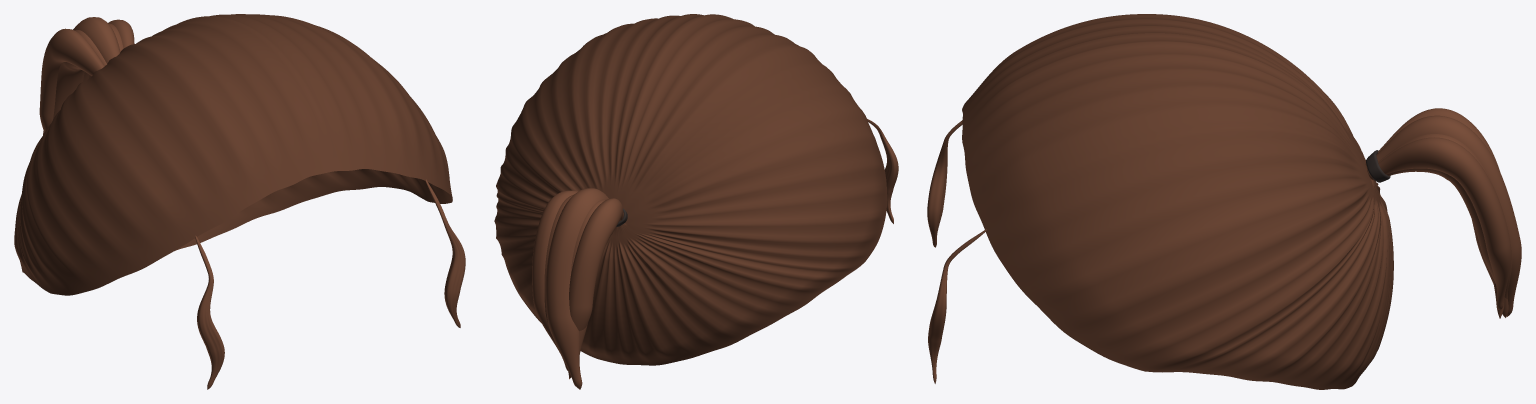
Rendered from ponytail-cap-default.glb.
3 renders of one model, left to right at view 1: azimuth 30°, elevation 25°; view 2: azimuth 150°, elevation 25°; view 3: azimuth 270°, elevation 25°, orthographic. The views are drawn at different scales.
Parts seen in each view (by area): view 1: Hair / swept roots220, Hair / rounded tail220 0, Hair / adjustable front216 -1, Hair / adjustable front216 1, Hair / rounded tail220 2, Hair / rounded tail220 1, Hair / rounded tail220 4; view 2: Hair / swept roots220, Hair / rounded tail220 2, Hair / rounded tail220 0, Hair / rounded tail220 4, Hair / adjustable front216 -1, Hair / rounded tail220 1, Hair / rounded tail220 3; view 3: Hair / swept roots220, Hair / rounded tail220 4, Hair / rounded tail220 2, Hair / rounded tail220 3, Hair / adjustable front216 -1, Hair / adjustable front216 1, Hair / rounded tail220 0.
Part boxes in pixels (x1,y1,x2,y2): Hair / swept roots220: (14, 14, 452, 295); Hair / rounded tail220 0: (39, 28, 104, 132); Hair / adjustable front216 -1: (195, 235, 224, 389); Hair / adjustable front216 1: (425, 179, 465, 327); Hair / rounded tail220 2: (43, 17, 120, 135); Hair / rounded tail220 1: (53, 30, 106, 119); Hair / rounded tail220 4: (108, 19, 134, 48); Hair / swept roots220: (494, 14, 887, 365); Hair / rounded tail220 2: (545, 188, 608, 389); Hair / rounded tail220 0: (568, 198, 623, 379); Hair / rounded tail220 4: (532, 190, 577, 370); Hair / adjustable front216 -1: (867, 119, 898, 223); Hair / rounded tail220 1: (571, 199, 605, 386); Hair / rounded tail220 3: (544, 194, 573, 331); Hair / swept roots220: (962, 14, 1393, 389); Hair / rounded tail220 4: (1367, 137, 1511, 309); Hair / rounded tail220 2: (1365, 115, 1521, 316); Hair / rounded tail220 3: (1367, 134, 1512, 298); Hair / adjustable front216 -1: (927, 120, 962, 247); Hair / adjustable front216 1: (928, 229, 986, 383); Hair / rounded tail220 0: (1378, 108, 1504, 318).
Size of the model in its own units: 0.779 by 0.5788 by 0.9433.
